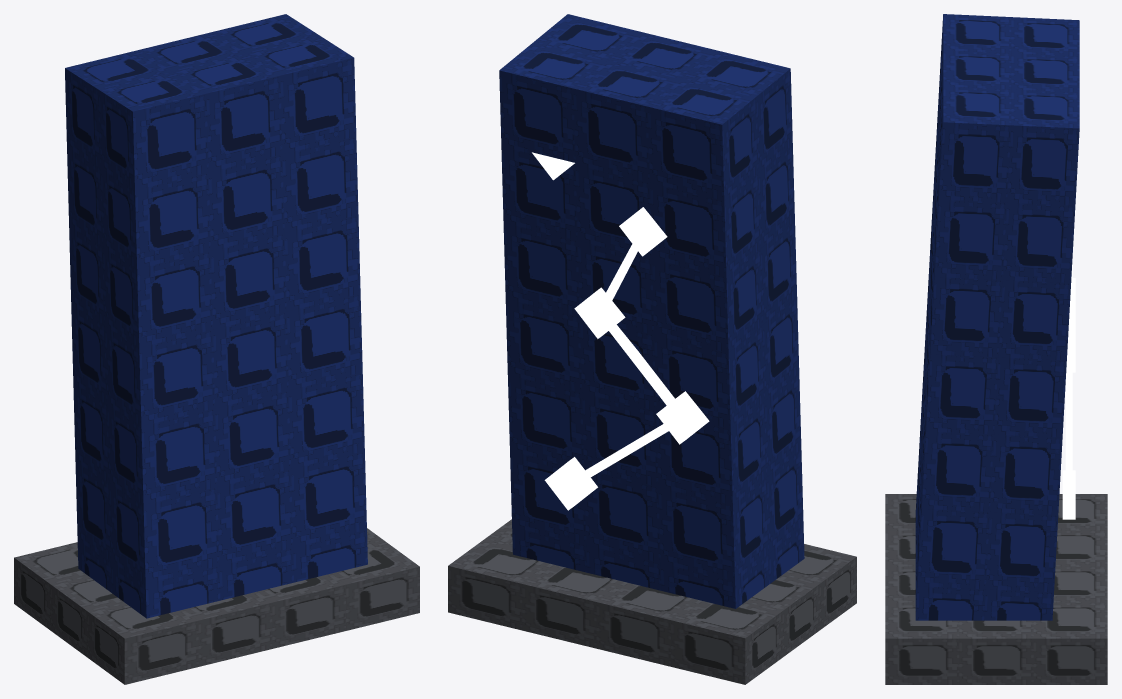
Rendered from ConstellationStone.glb.
3 views of the same model, side by side, from view 1: azimuth 30°, elevation 25°; view 2: azimuth 150°, elevation 25°; view 3: azimuth 270°, elevation 25° (orthographic).
Parts seen in each view (by area): view 1: ConstellationStone; view 2: ConstellationStone, ConstellationStone_Glow; view 3: ConstellationStone, ConstellationStone_Glow.
Part boxes in pixels (box(x1,y1,x2,y2)): ConstellationStone: box(14, 14, 419, 684); ConstellationStone: box(448, 14, 856, 684); ConstellationStone_Glow: box(532, 152, 709, 510); ConstellationStone: box(885, 14, 1107, 684); ConstellationStone_Glow: box(1062, 204, 1075, 519).
Size of the model in its own units: 4 by 7.07 by 2.6.
2 materials, 1 textured.
